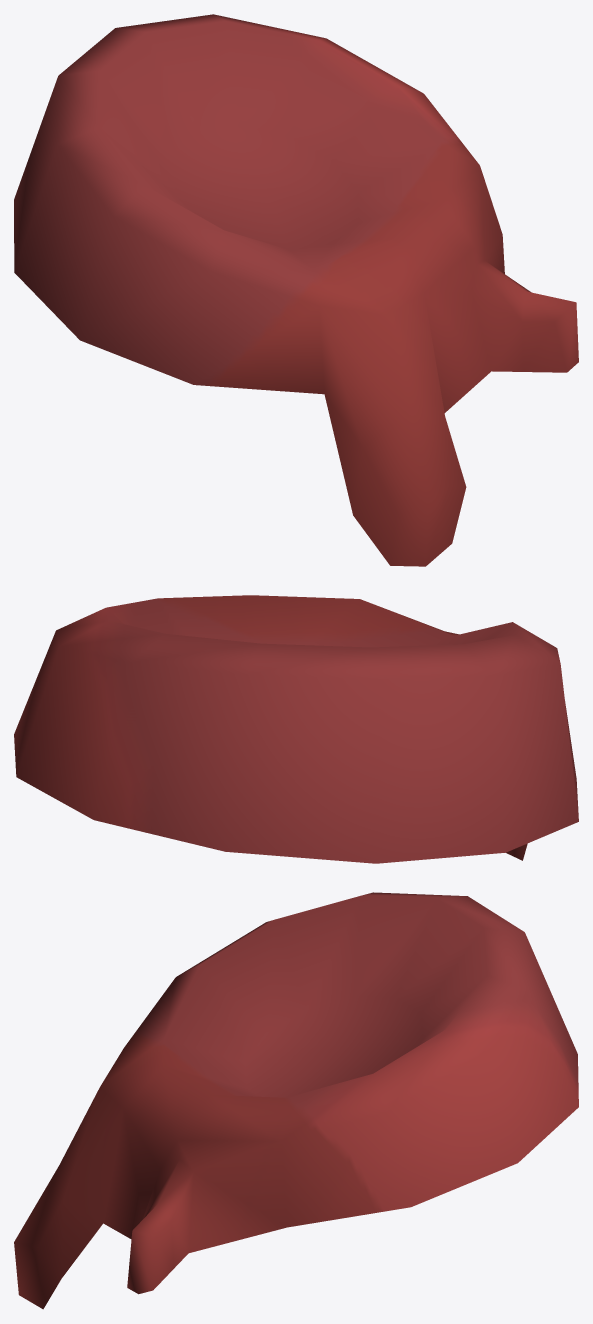
File: 308_candle004_MD.fbx
The picture shows the model from 3 angles, top to bottom: view 1: azimuth 30°, elevation 25°; view 2: azimuth 150°, elevation 25°; view 3: azimuth 270°, elevation 25°; orthographic projection. The views are drawn at different scales.
Visible parts, largest first — view 1: Object007; view 2: Object007; view 3: Object007.
Part boxes in pixels (left/top/right/bottom): Object007: left=14, top=14, right=578, bottom=566; Object007: left=14, top=595, right=578, bottom=863; Object007: left=14, top=892, right=578, bottom=1309.
Size of the model in its own units: 5.05 by 4.09 by 5.98.
1 material, 1 textured.
